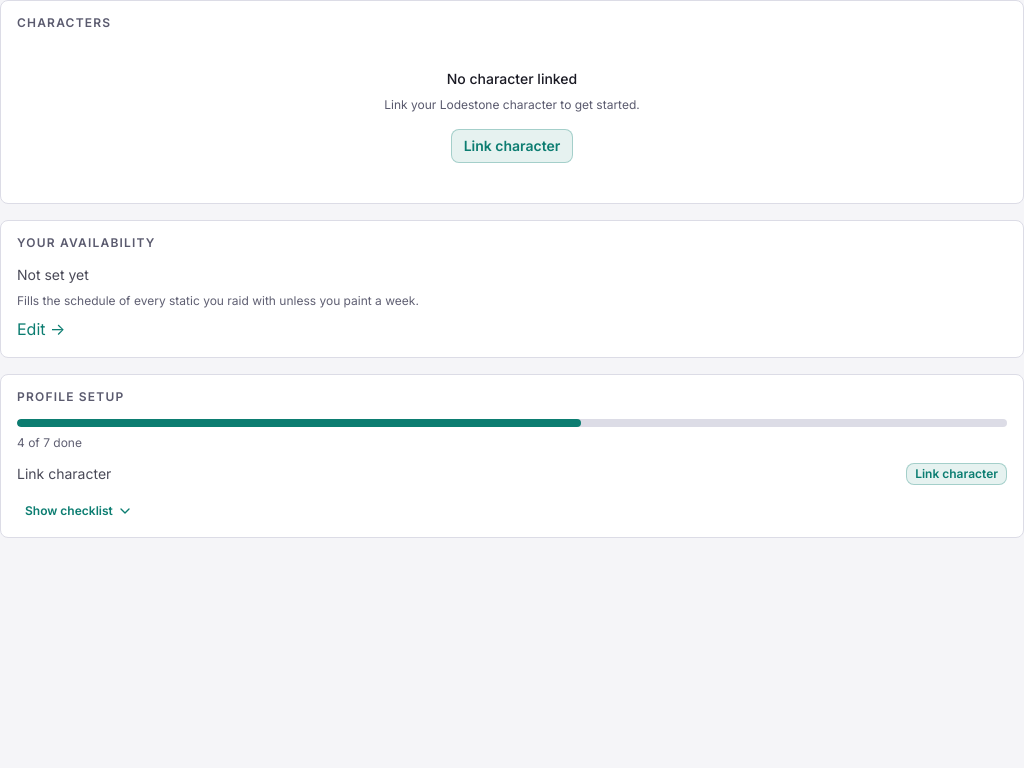
Test case: Profile setup card › checklist toggles aria-expanded on Show checklist button
Click the button "Show checklist": x=79, y=511 [17, 501, 141, 521]
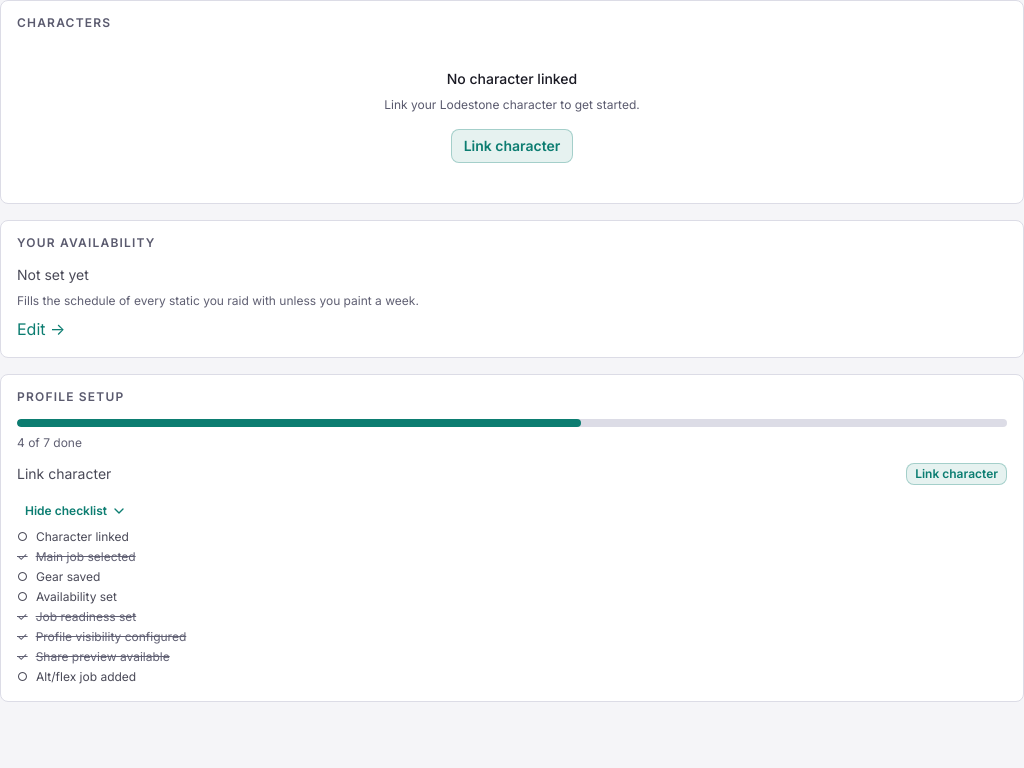
Expected: the button "Hide checklist" is expanded, [17, 501, 135, 521]
